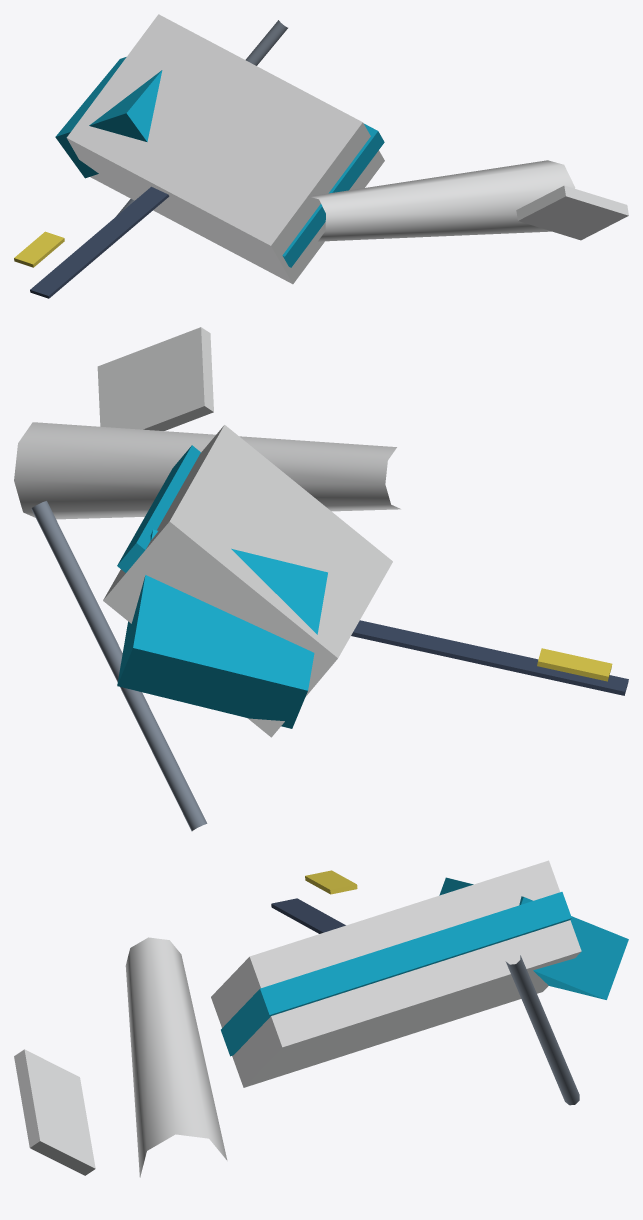
File: news-chopper-wreck.glb
3 views of the same model, one above another, from view 1: azimuth 30°, elevation 25°; view 2: azimuth 150°, elevation 25°; view 3: azimuth 270°, elevation 25° (orthographic). The views are drawn at different scales.
Parts seen in each view (by area): view 1: Root; view 2: Root; view 3: Root.
Part boxes in pixels (bbox=[...]): Root: bbox=[14, 14, 628, 298]; Root: bbox=[14, 327, 628, 831]; Root: bbox=[14, 860, 628, 1177].
Bounding box in the file's own units: 8.58 × 3.55 × 7.57.
